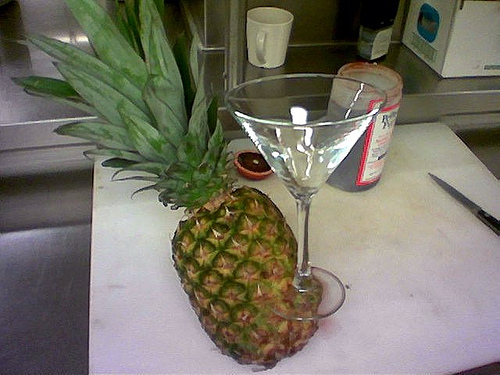pineapple: (0, 0, 327, 374)
